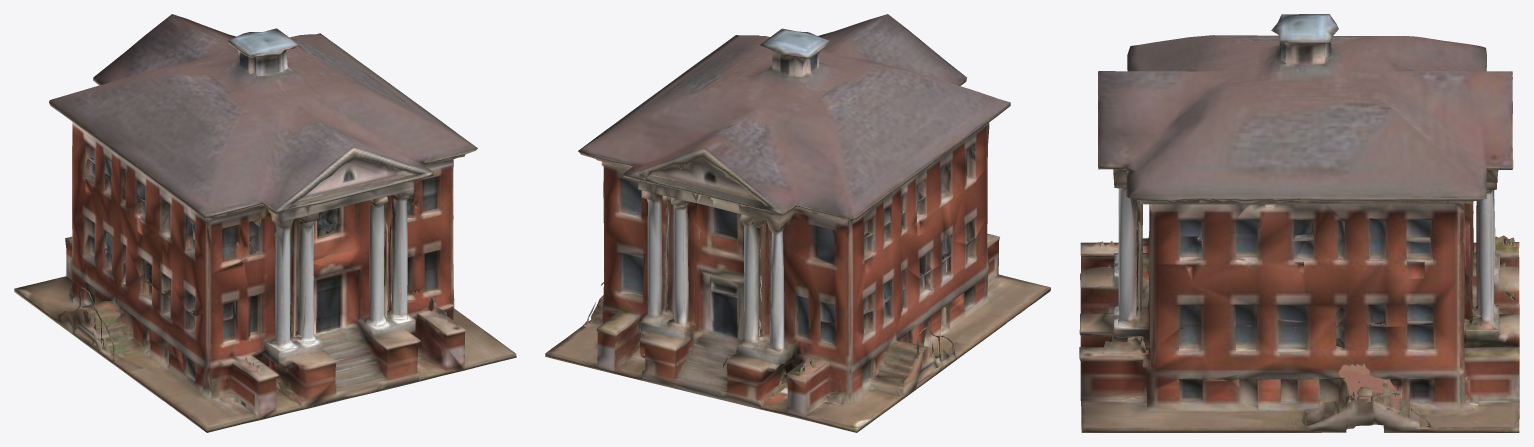
File: civic_hall.glb
3 renders of one model, left to right at view 1: azimuth 30°, elevation 25°; view 2: azimuth 150°, elevation 25°; view 3: azimuth 270°, elevation 25°, orthographic. The views are drawn at different scales.
Visible parts, largest first — view 1: Object_4; view 2: Object_4; view 3: Object_4.
Part boxes in pixels (bbox=[...]): Object_4: bbox=[14, 14, 516, 432]; Object_4: bbox=[545, 14, 1050, 432]; Object_4: bbox=[1079, 14, 1519, 432].
Size of the model in its own units: 25 by 22 by 27.
1 material, 1 textured.
